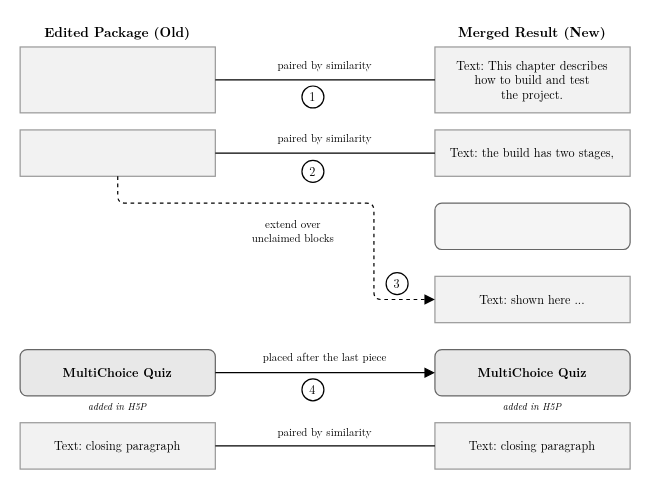
The diagram is 650 pixels wide and 489 high, and some of its shapes have lost their labels. Here are the shapes that lost their labels. From the top down, the box of each, then its label:
(19, 46, 215, 113): Text: This chapter explains how to build the project.
(19, 129, 215, 176): Text: the build has two stages, shown here ...
(434, 202, 630, 249): Image: stages.png
